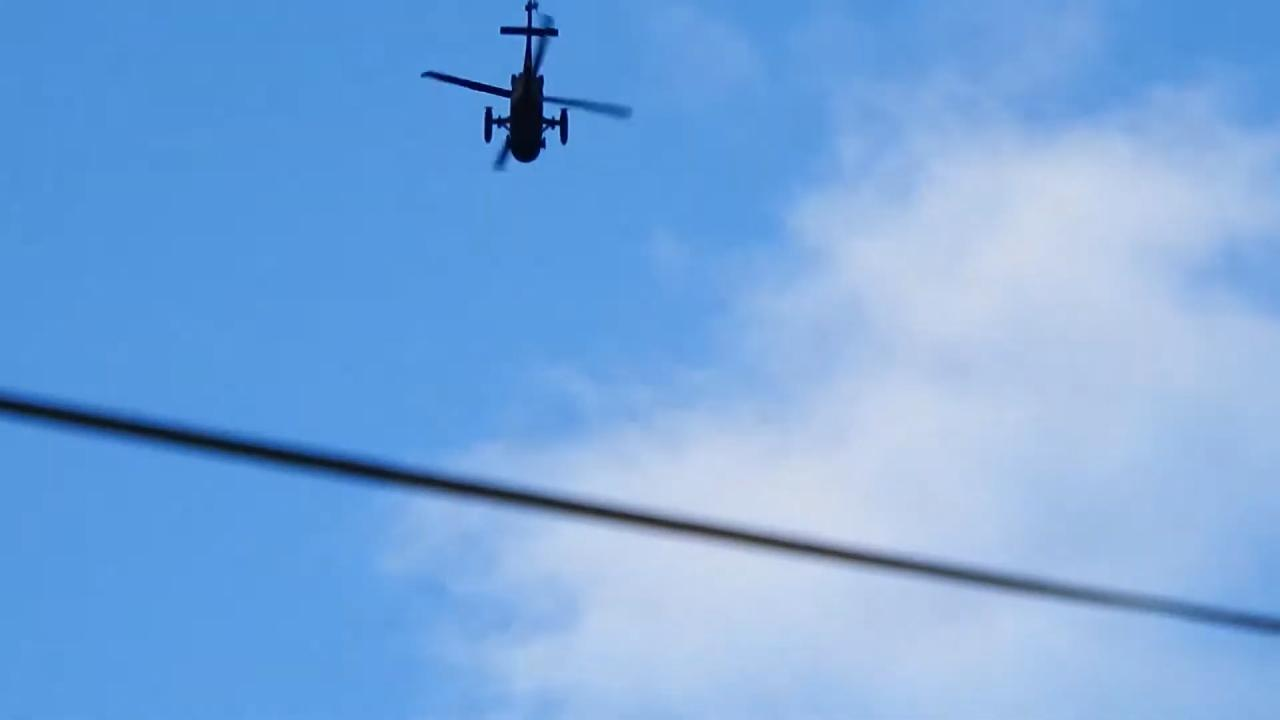Helicopter: (391, 0, 663, 185)
